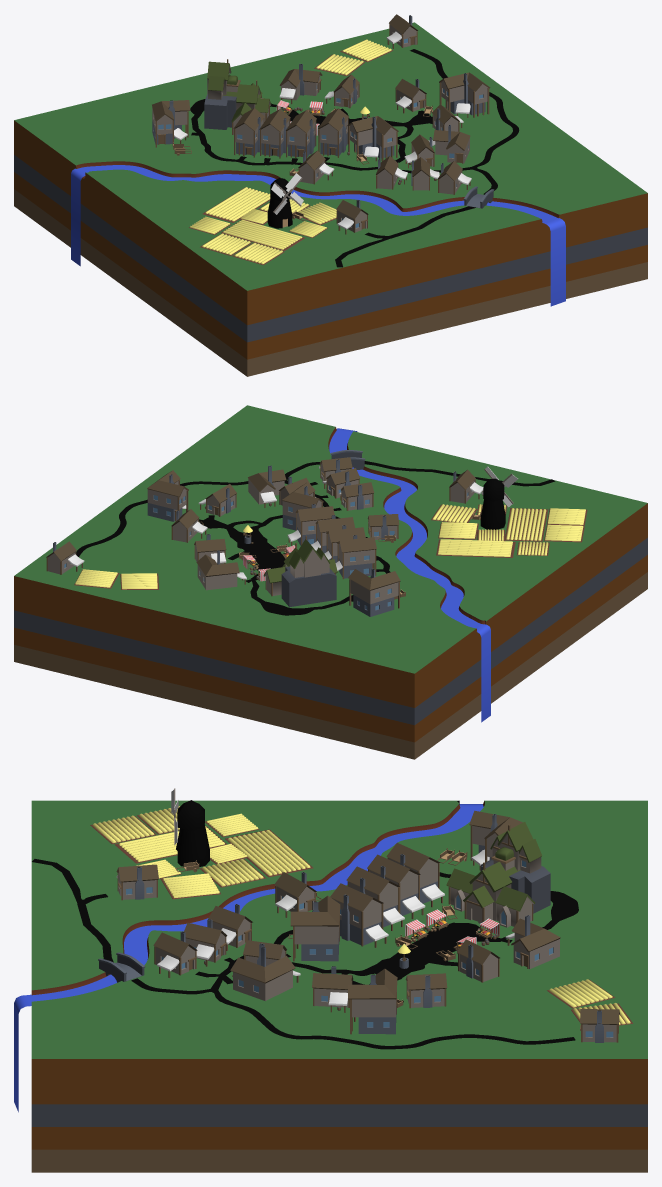
Rendered from Level_1.fbx.
The picture shows the model from 3 angles, top to bottom: view 1: azimuth 30°, elevation 25°; view 2: azimuth 150°, elevation 25°; view 3: azimuth 270°, elevation 25°; orthographic projection. The views are drawn at different scales.
Visible parts, largest first — view 1: Cube, NurbsPath.001, Plane, Town_center.001, House_4.001, House_4.002, House_4.003, Farm.004, Farm.003, House_3.004, House_3.003, House_3.002 (+20 smaller); view 2: Cube, NurbsPath.001, Plane, Town_center.001, House_4.003, House_4.001, House_3.001, Farm.003, Farm.004, House_2.002, Mill.001, House_2.001 (+19 smaller); view 3: Cube, Plane, Town_center.001, NurbsPath.001, House_4.002, House_4.001, House_3.004, House_2.001, Farm.003, House_2.002, Mill.001, House_3.002 (+21 smaller).
Boxes of the visible parts, <box> form: Cube: <box>14,22,647,376</box>; NurbsPath.001: <box>71,165,565,306</box>; Plane: <box>190,49,519,267</box>; Town_center.001: <box>204,59,271,134</box>; House_4.001: <box>439,72,490,117</box>; House_4.002: <box>347,116,398,161</box>; House_4.003: <box>152,100,190,147</box>; Farm.004: <box>221,219,305,251</box>; Farm.003: <box>202,187,270,222</box>; House_3.004: <box>318,108,348,157</box>; House_3.003: <box>286,110,316,158</box>; House_3.002: <box>259,109,290,158</box>; Cube: <box>14,405,647,759</box>; NurbsPath.001: <box>329,428,490,722</box>; Plane: <box>76,461,555,615</box>; Town_center.001: <box>263,535,337,607</box>; House_4.003: <box>348,568,400,616</box>; House_4.001: <box>147,470,188,521</box>; House_3.001: <box>335,535,376,579</box>; Farm.003: <box>436,539,515,557</box>; Farm.004: <box>505,508,548,541</box>; House_2.002: <box>196,550,246,590</box>; Mill.001: <box>480,478,505,529</box>; House_2.001: <box>248,465,286,507</box>; Cube: <box>31,800,647,1172</box>; Plane: <box>32,859,578,1049</box>; Town_center.001: <box>446,822,550,927</box>; NurbsPath.001: <box>14,804,483,1112</box>; House_4.002: <box>290,895,340,961</box>; House_4.001: <box>348,968,397,1034</box>; House_3.004: <box>330,883,388,947</box>; House_2.001: <box>230,946,300,1000</box>; Farm.003: <box>225,829,313,877</box>; House_2.002: <box>505,915,560,968</box>; Mill.001: <box>176,800,209,866</box>; House_3.002: <box>367,854,425,919</box>.
Size of the model in its own units: 10104 by 3640 by 10353.
